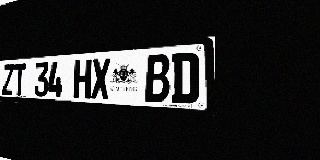3: (34, 62, 49, 97)
4: (48, 61, 64, 98)
B: (145, 54, 170, 103)
D: (171, 52, 199, 104)
H: (73, 59, 92, 99)
T: (13, 63, 26, 96)
X: (91, 58, 111, 100)
Z: (2, 64, 14, 95)
